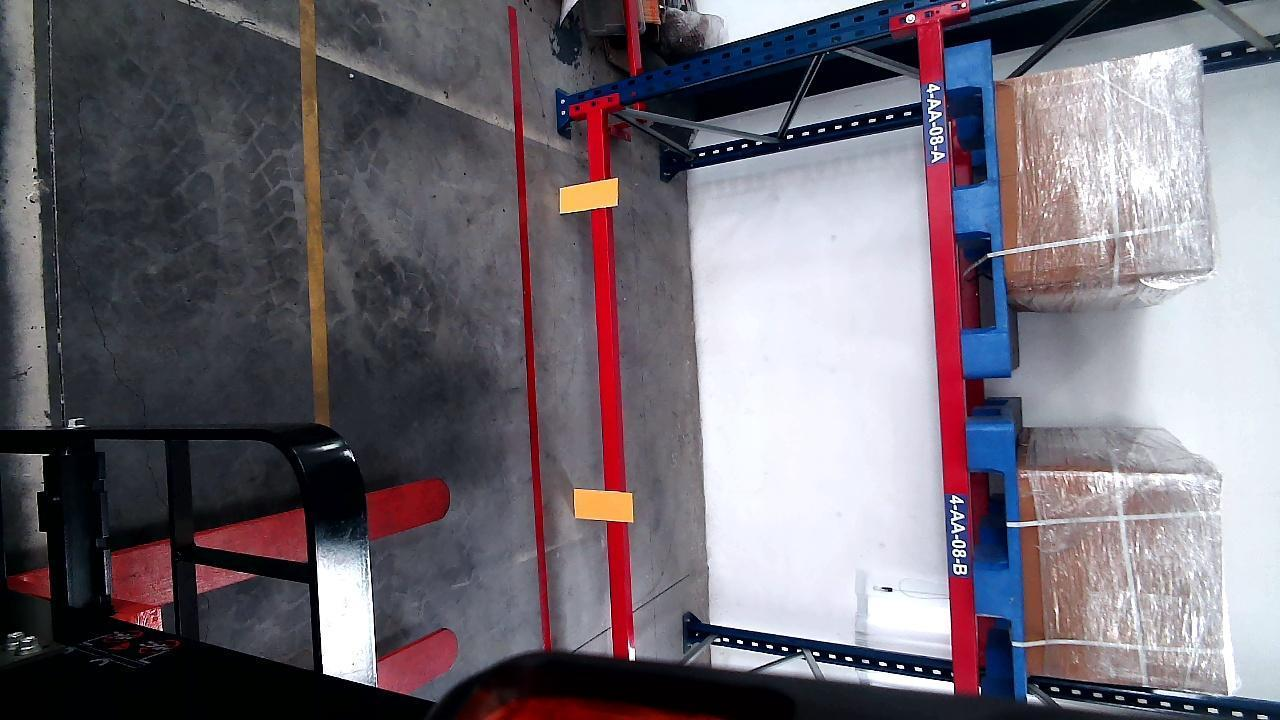h_rack: (920, 25, 979, 697), (588, 113, 631, 656)
orange_strip: (559, 178, 617, 213), (574, 489, 633, 521)
red_line: (508, 4, 559, 648)
small_pallet: (950, 43, 1022, 376), (971, 428, 1026, 688)
